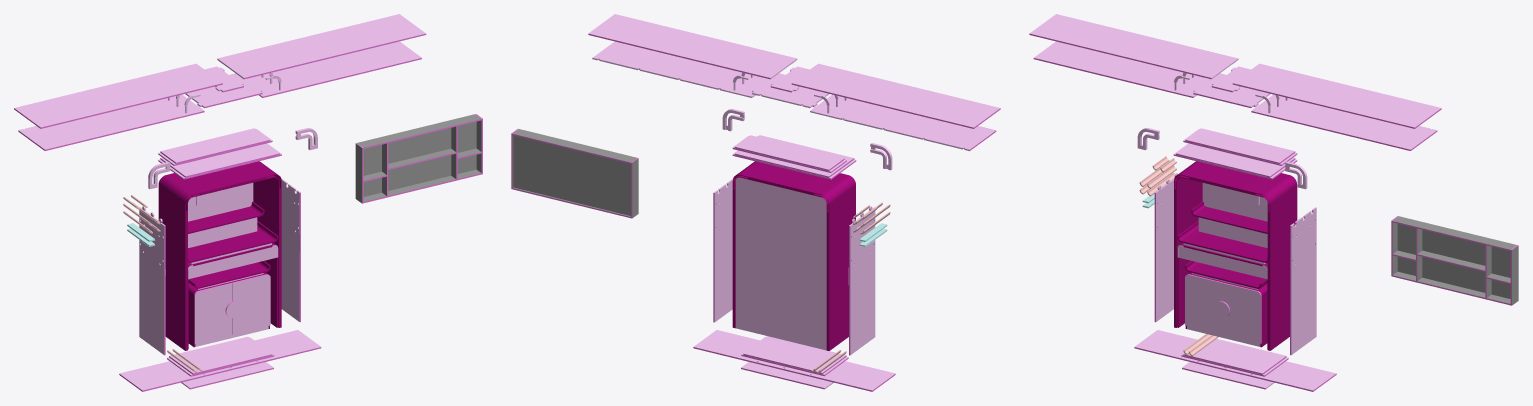
3 renders of one model, left to right at view 1: azimuth 30°, elevation 25°; view 2: azimuth 150°, elevation 25°; view 3: azimuth 330°, elevation 25°, orthographic.
Parts seen in each view (by area): view 1: Geom3D_ABF_PART_341____341. _REVIEW, Geom3D_ABF_PART_222____222. Khung lớn - Nóc ngoài <Chập đôi,, Geom3D_ABF_PART_196____196. Khung lớn - Nóc ngoài <Chập đôi,, Geom3D_ABF_PART_64____64. Kệ treo - Hậu, Geom3D_ABF_PART_221____221. Khung lớn - Nóc trong <Chập đôi,, Geom3D_ABF_PART_207____207. Khung lớn - Nóc trong <Chập đôi,, Geom3D_ (×3), Geom3D_ABF_PART_87____87. Bàn lớn - Hông trái, Geom3D_ABF_PART_74____74. Bàn lớn - Hông phải, Geom3D_ABF_PART_264____264. Bàn nhỏ - Nóc, Geom3D_ABF_PART_445____445. Bàn nhỏ - Cánh trái, Geom3D_ABF_PART_256____256. Bàn nhỏ - Cánh phải (+15 smaller); view 2: Geom3D_ABF_PART_238____238. Khung lớn - Hậu, Geom3D_ABF_PART_341____341. _REVIEW, Geom3D_ABF_PART_64____64. Kệ treo - Hậu, Geom3D_ABF_PART_222____222. Khung lớn - Nóc ngoài <Chập đôi,, Geom3D_ABF_PART_196____196. Khung lớn - Nóc ngoài <Chập đôi,, Geom3D_ABF_PART_221____221. Khung lớn - Nóc trong <Chập đôi,, Geom3D_ABF_PART_207____207. Khung lớn - Nóc trong <Chập đôi,, Geom3D_ABF_PART_87____87. Bàn lớn - Hông trái, Geom3D_ABF_PART_264____264. Bàn nhỏ - Nóc, Geom3D_ABF_PART_74____74. Bàn lớn - Hông phải, Geom3D_ABF_PART_266____266. Bàn nhỏ - Nóc, Geom3D_ABF_PART_146____146. Bục trên - Tấm cong (+6 smaller); view 3: Geom3D_ABF_PART_341____341. _REVIEW, Geom3D_ABF_PART_196____196. Khung lớn - Nóc ngoài <Chập đôi,, Geom3D_ABF_PART_222____222. Khung lớn - Nóc ngoài <Chập đôi,, Geom3D_ABF_PART_64____64. Kệ treo - Hậu, Geom3D_ABF_PART_207____207. Khung lớn - Nóc trong <Chập đôi,, Geom3D_ABF_PART_221____221. Khung lớn - Nóc trong <Chập đôi,, Geom3D_ (×3), Geom3D_ABF_PART_74____74. Bàn lớn - Hông phải, Geom3D_ABF_PART_264____264. Bàn nhỏ - Nóc, Geom3D_ABF_PART_87____87. Bàn lớn - Hông trái, Geom3D_ABF_PART_256____256. Bàn nhỏ - Cánh phải, Geom3D_ABF_PART_445____445. Bàn nhỏ - Cánh trái (+14 smaller).
Part boxes in pixels (box(x1,y1,x2,y2)): Geom3D_ABF_PART_341____341. _REVIEW: box(158, 161, 281, 350); Geom3D_ABF_PART_222____222. Khung lớn - Nóc ngoài <Chập đôi,: box(217, 14, 425, 78); Geom3D_ABF_PART_196____196. Khung lớn - Nóc ngoài <Chập đôi,: box(14, 63, 222, 127); Geom3D_ABF_PART_64____64. Kệ treo - Hậu: box(363, 121, 476, 196); Geom3D_ABF_PART_221____221. Khung lớn - Nóc trong <Chập đôi,: box(18, 94, 203, 149); Geom3D_ABF_PART_207____207. Khung lớn - Nóc trong <Chập đôi,: box(244, 41, 421, 97); Geom3D_ (×3): box(188, 202, 278, 288); Geom3D_ABF_PART_87____87. Bàn lớn - Hông trái: box(139, 206, 165, 354); Geom3D_ABF_PART_74____74. Bàn lớn - Hông phải: box(281, 178, 300, 321); Geom3D_ABF_PART_264____264. Bàn nhỏ - Nóc: box(119, 330, 320, 390); Geom3D_ABF_PART_445____445. Bàn nhỏ - Cánh trái: box(195, 283, 232, 343); Geom3D_ABF_PART_256____256. Bàn nhỏ - Cánh phải: box(233, 274, 270, 334); Geom3D_ABF_PART_238____238. Khung lớn - Hậu: box(735, 177, 826, 350); Geom3D_ABF_PART_341____341. _REVIEW: box(732, 161, 855, 350); Geom3D_ABF_PART_64____64. Kệ treo - Hậu: box(513, 135, 630, 215); Geom3D_ABF_PART_222____222. Khung lớn - Nóc ngoài <Chập đôi,: box(588, 14, 797, 78); Geom3D_ABF_PART_196____196. Khung lớn - Nóc ngoài <Chập đôi,: box(792, 63, 1000, 127); Geom3D_ABF_PART_221____221. Khung lớn - Nóc trong <Chập đôi,: box(810, 94, 995, 150); Geom3D_ABF_PART_207____207. Khung lớn - Nóc trong <Chập đôi,: box(592, 41, 769, 97); Geom3D_ABF_PART_87____87. Bàn lớn - Hông trái: box(849, 206, 875, 354); Geom3D_ABF_PART_264____264. Bàn nhỏ - Nóc: box(694, 330, 895, 390); Geom3D_ABF_PART_74____74. Bàn lớn - Hông phải: box(713, 179, 732, 321); Geom3D_ABF_PART_266____266. Bàn nhỏ - Nóc: box(744, 336, 845, 372); Geom3D_ABF_PART_146____146. Bục trên - Tấm cong: box(735, 135, 844, 169); Geom3D_ABF_PART_341____341. _REVIEW: box(1174, 161, 1297, 350); Geom3D_ABF_PART_196____196. Khung lớn - Nóc ngoài <Chập đôi,: box(1030, 14, 1238, 78); Geom3D_ABF_PART_222____222. Khung lớn - Nóc ngoài <Chập đôi,: box(1233, 63, 1441, 127); Geom3D_ABF_PART_64____64. Kệ treo - Hậu: box(1397, 224, 1510, 298); Geom3D_ABF_PART_207____207. Khung lớn - Nóc trong <Chập đôi,: box(1251, 94, 1436, 149); Geom3D_ABF_PART_221____221. Khung lớn - Nóc trong <Chập đôi,: box(1034, 41, 1210, 97); Geom3D_ (×3): box(1177, 201, 1267, 288); Geom3D_ABF_PART_74____74. Bàn lớn - Hông phải: box(1290, 207, 1316, 354); Geom3D_ABF_PART_264____264. Bàn nhỏ - Nóc: box(1135, 330, 1336, 390); Geom3D_ABF_PART_87____87. Bàn lớn - Hông trái: box(1155, 173, 1177, 321); Geom3D_ABF_PART_256____256. Bàn nhỏ - Cánh phải: box(1223, 283, 1260, 343); Geom3D_ABF_PART_445____445. Bàn nhỏ - Cánh trái: box(1185, 274, 1222, 334).
Bounding box in the file's own units: 6.09 × 3.77 × 0.624.
